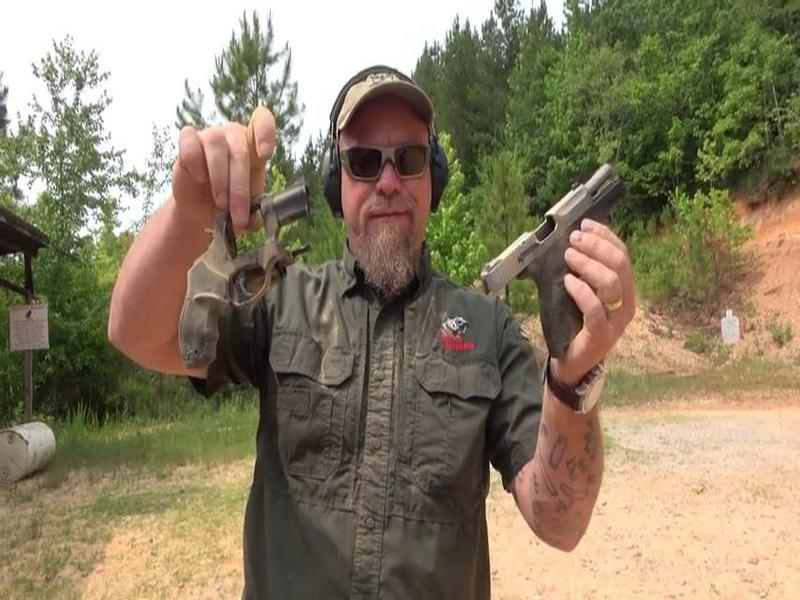Pistola: (487, 155, 636, 364)
Revolver: (177, 167, 320, 375)
